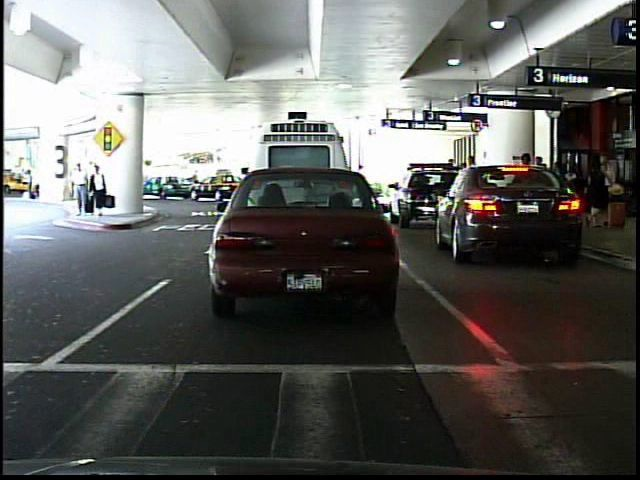person: (88, 160, 111, 221), (70, 157, 92, 218), (350, 158, 372, 204), (25, 165, 41, 204), (187, 166, 205, 196)
